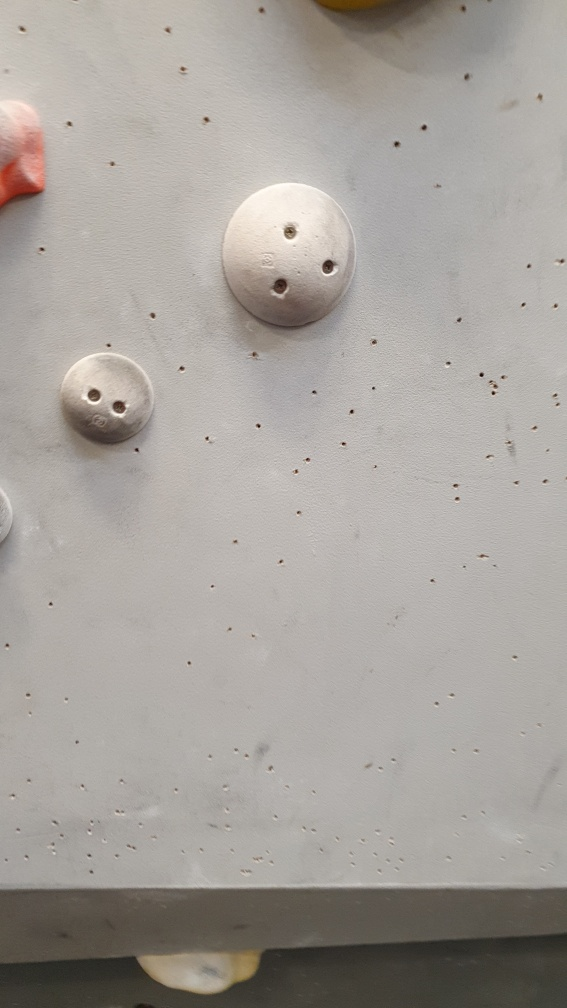Sloper: (218, 178, 360, 332), (55, 350, 163, 450)
